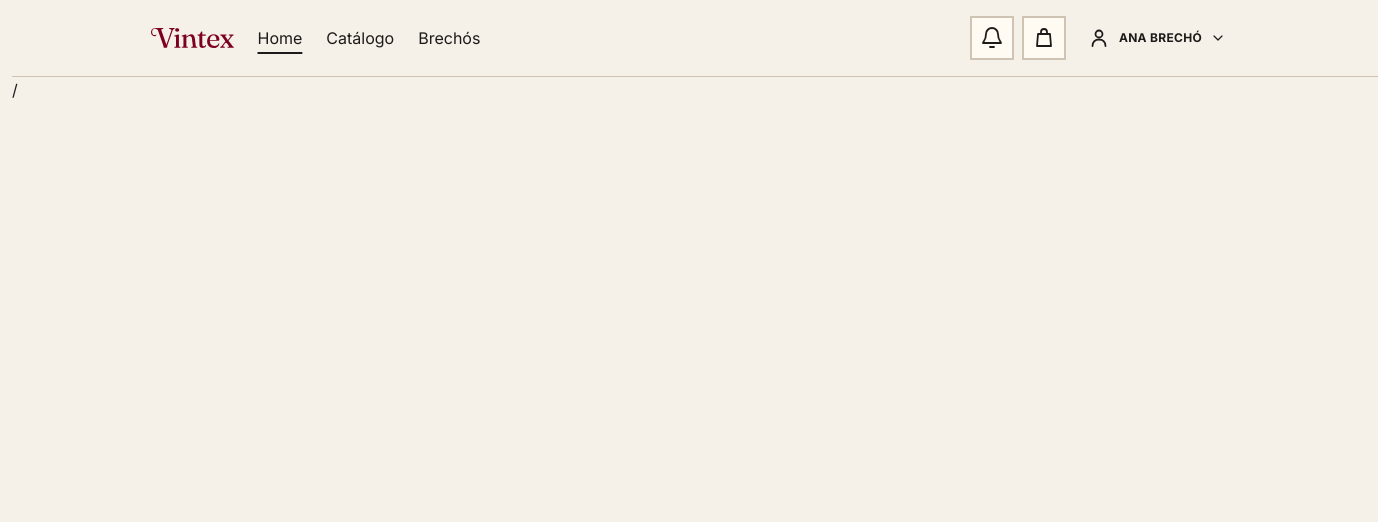
Scenario: <Header /> › FE-FND-6: navegação da Sprint 3 › admin: Painel admin navega para paths.adminReceipts e fecha o menu
This screenshot has width=1378, height=522.
Click the button "Ana Brechó".
click(1156, 38)  # box [1074,16,1239,60]
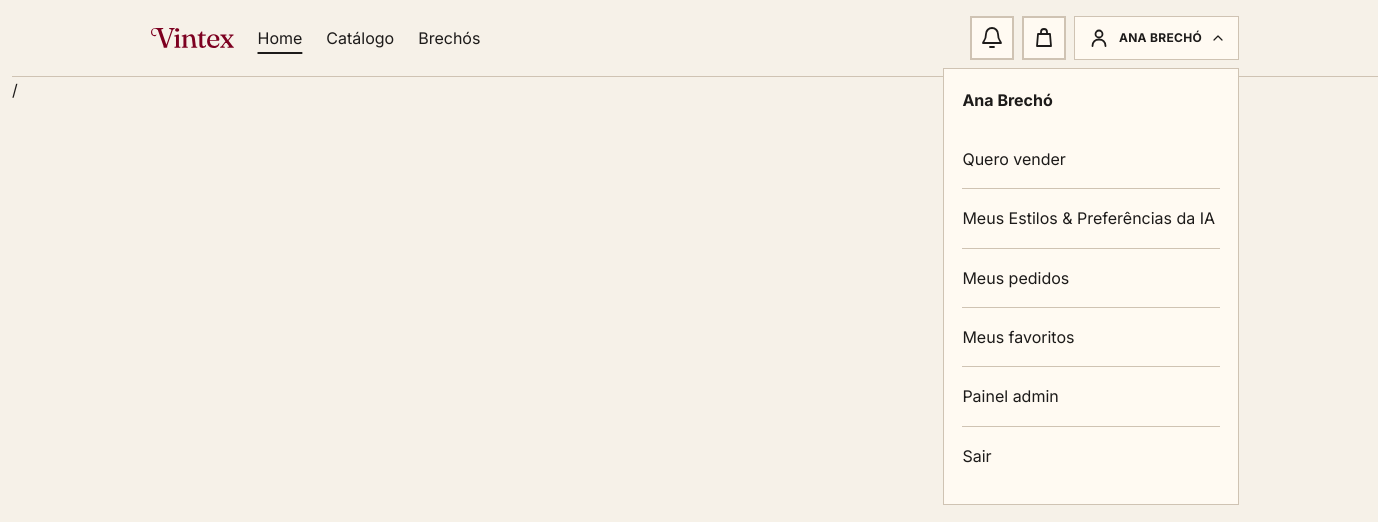
Click the button "Painel admin".
click(1091, 396)  # box [962,367,1220,426]
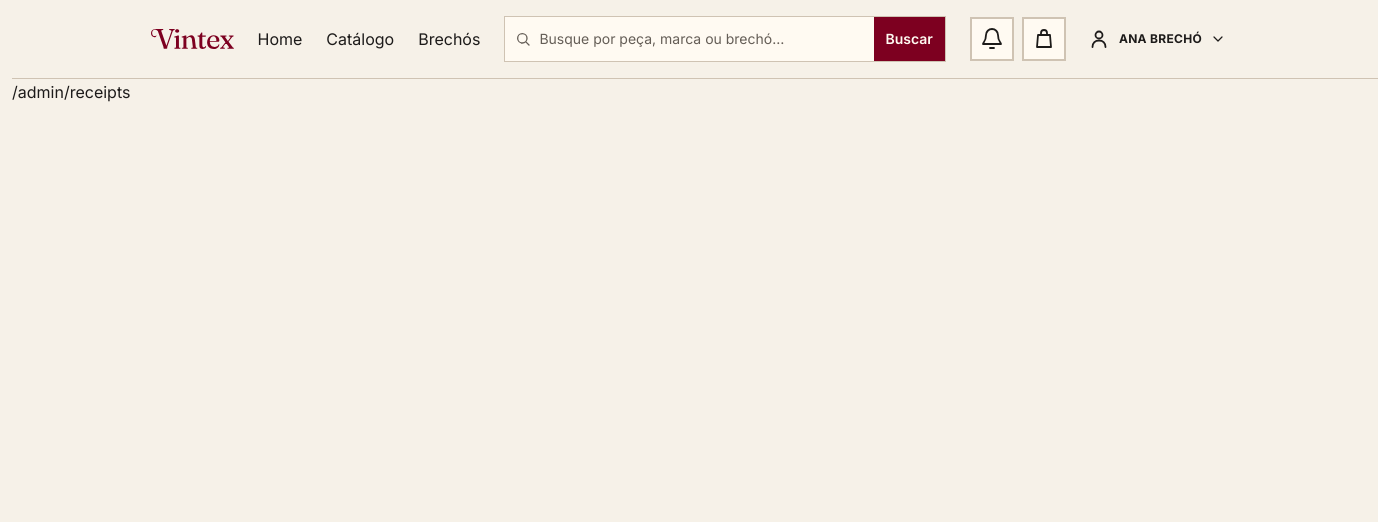
Check: the text with test id "path" reads "/admin/receipts", box [12,82,130,102]
Check: the button "Sair" is gone
